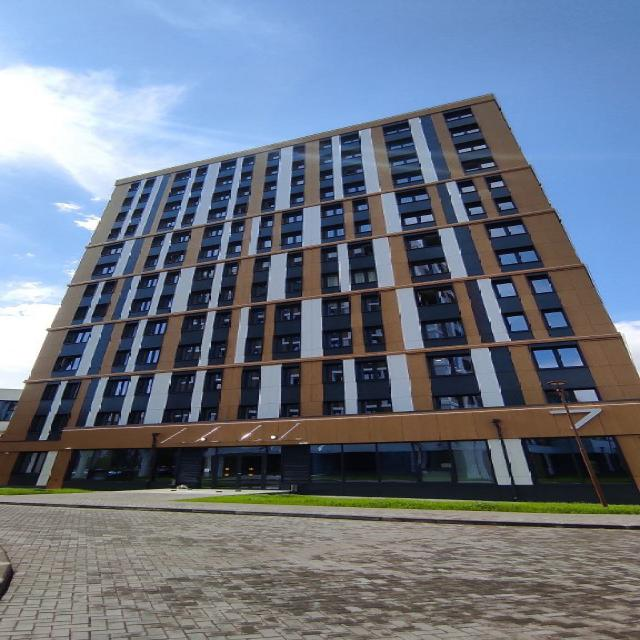Building: (2, 93, 640, 503)
